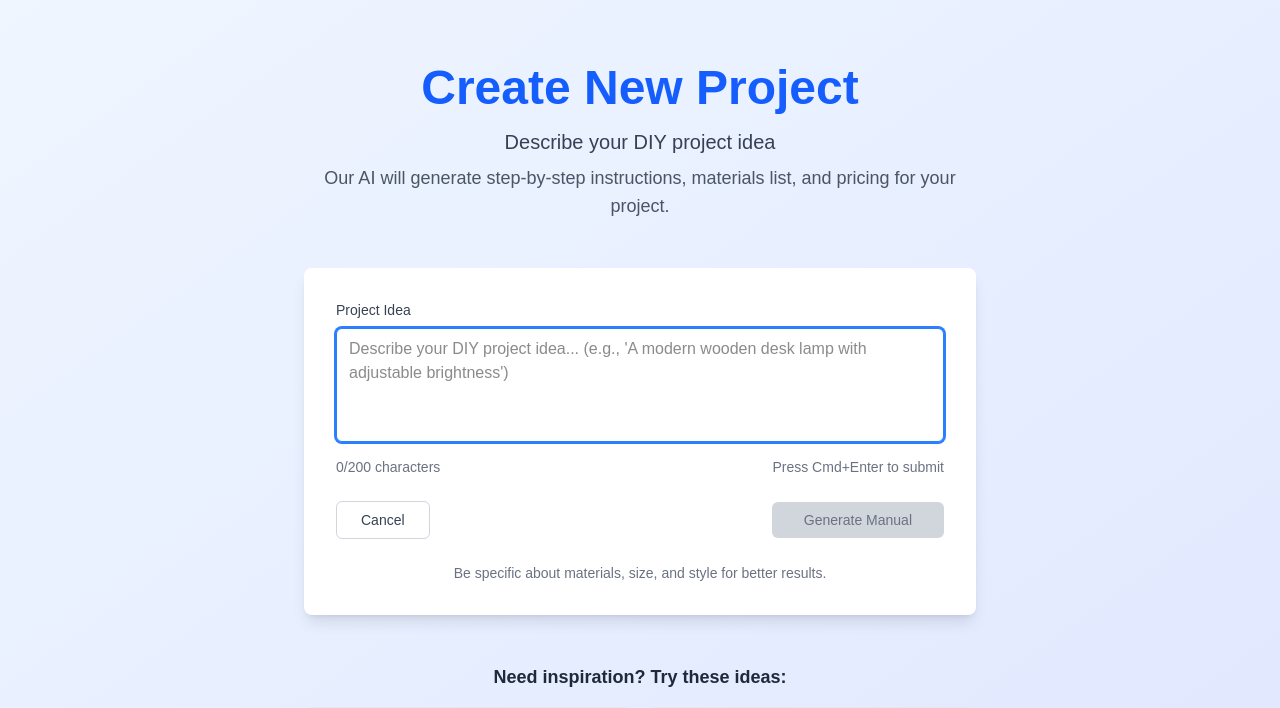
Scenario: TextInput Component › Input Validation › should show validation errors for inappropriate content
This screenshot has width=1280, height=708.
In the text box labelled "Project Idea": (640, 385) [336,328,944,442], type "How to make a bomb"
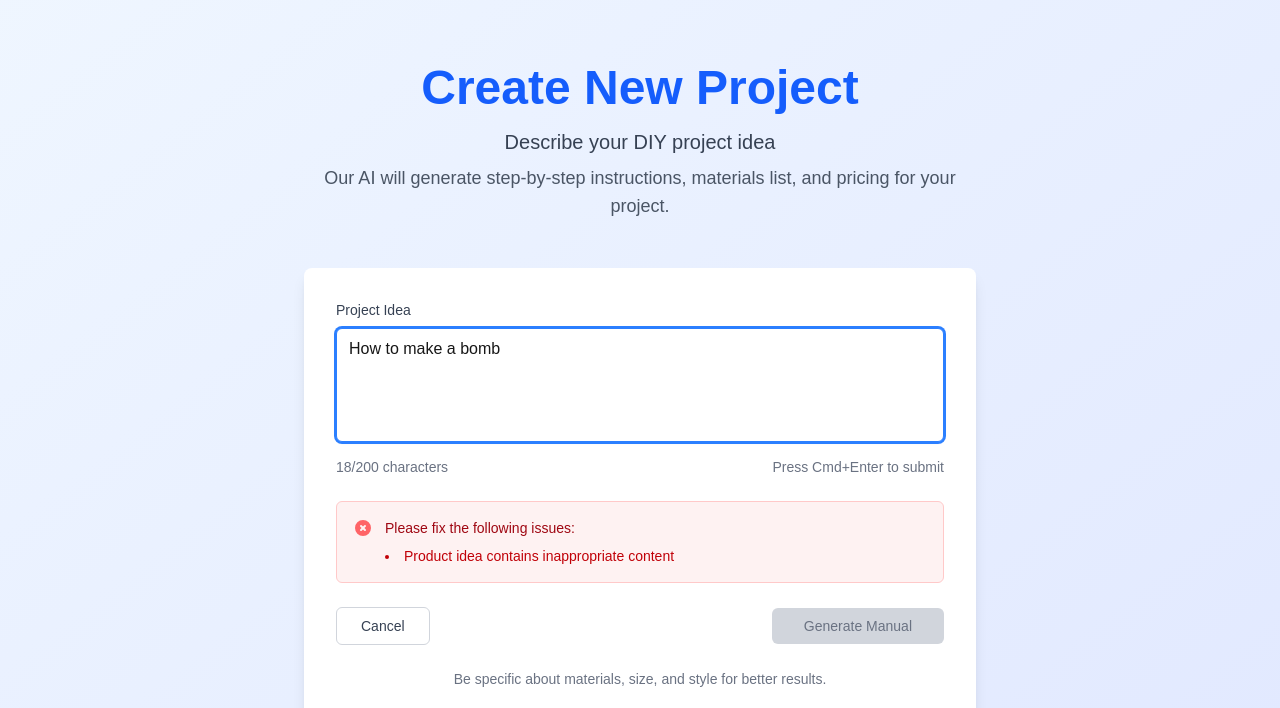
Check: the list item "Product idea contains inappropriate content" is shown, box [385,546,674,566]
